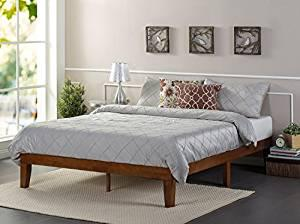bed: (9, 37, 288, 214)
